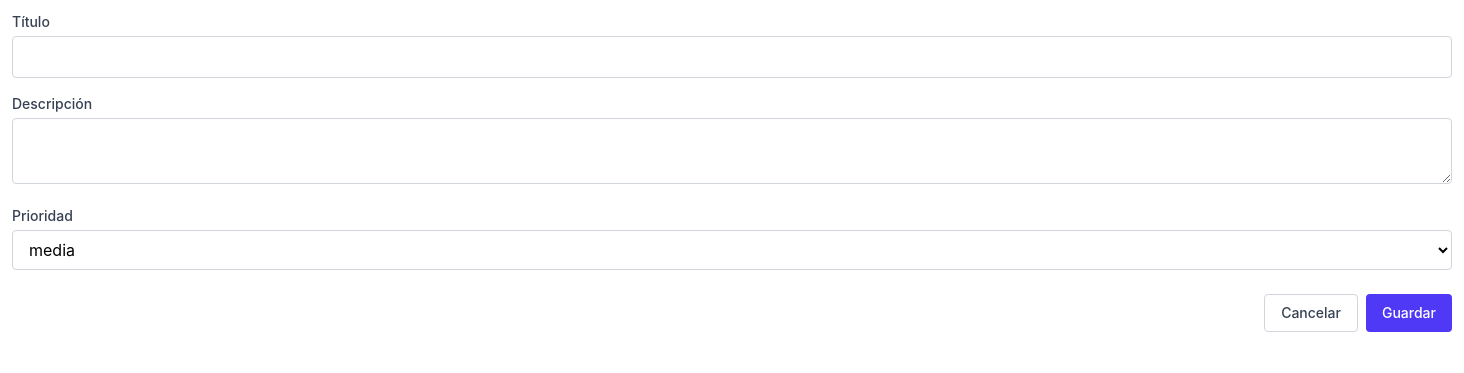
Test: AnotacionForm › shows a validation error when titulo is empty
Click the button "Guardar". click: click(1409, 313)
box: [1366,294,1452,332]
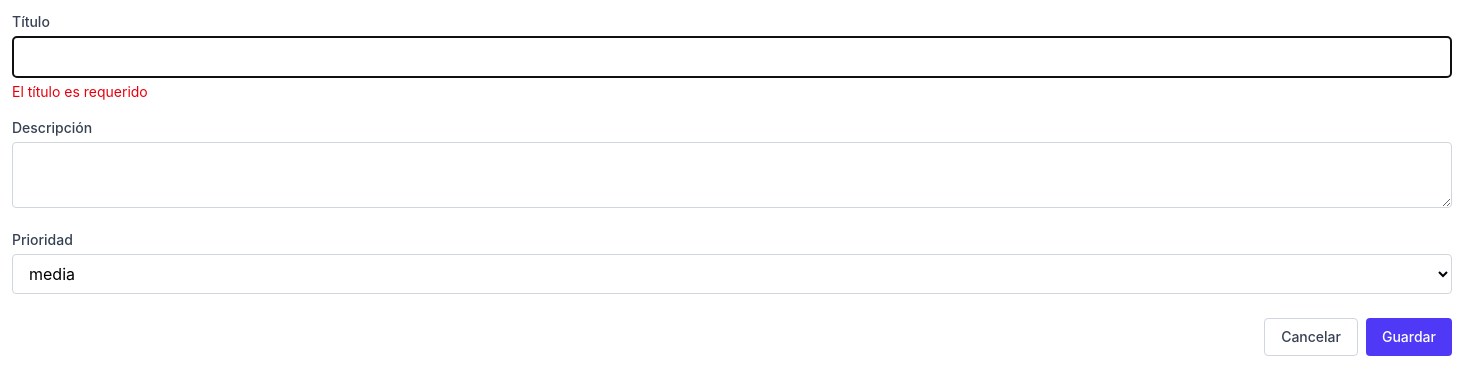
Expected: the text "El título es requerido" is shown, [12,83,148,100]
